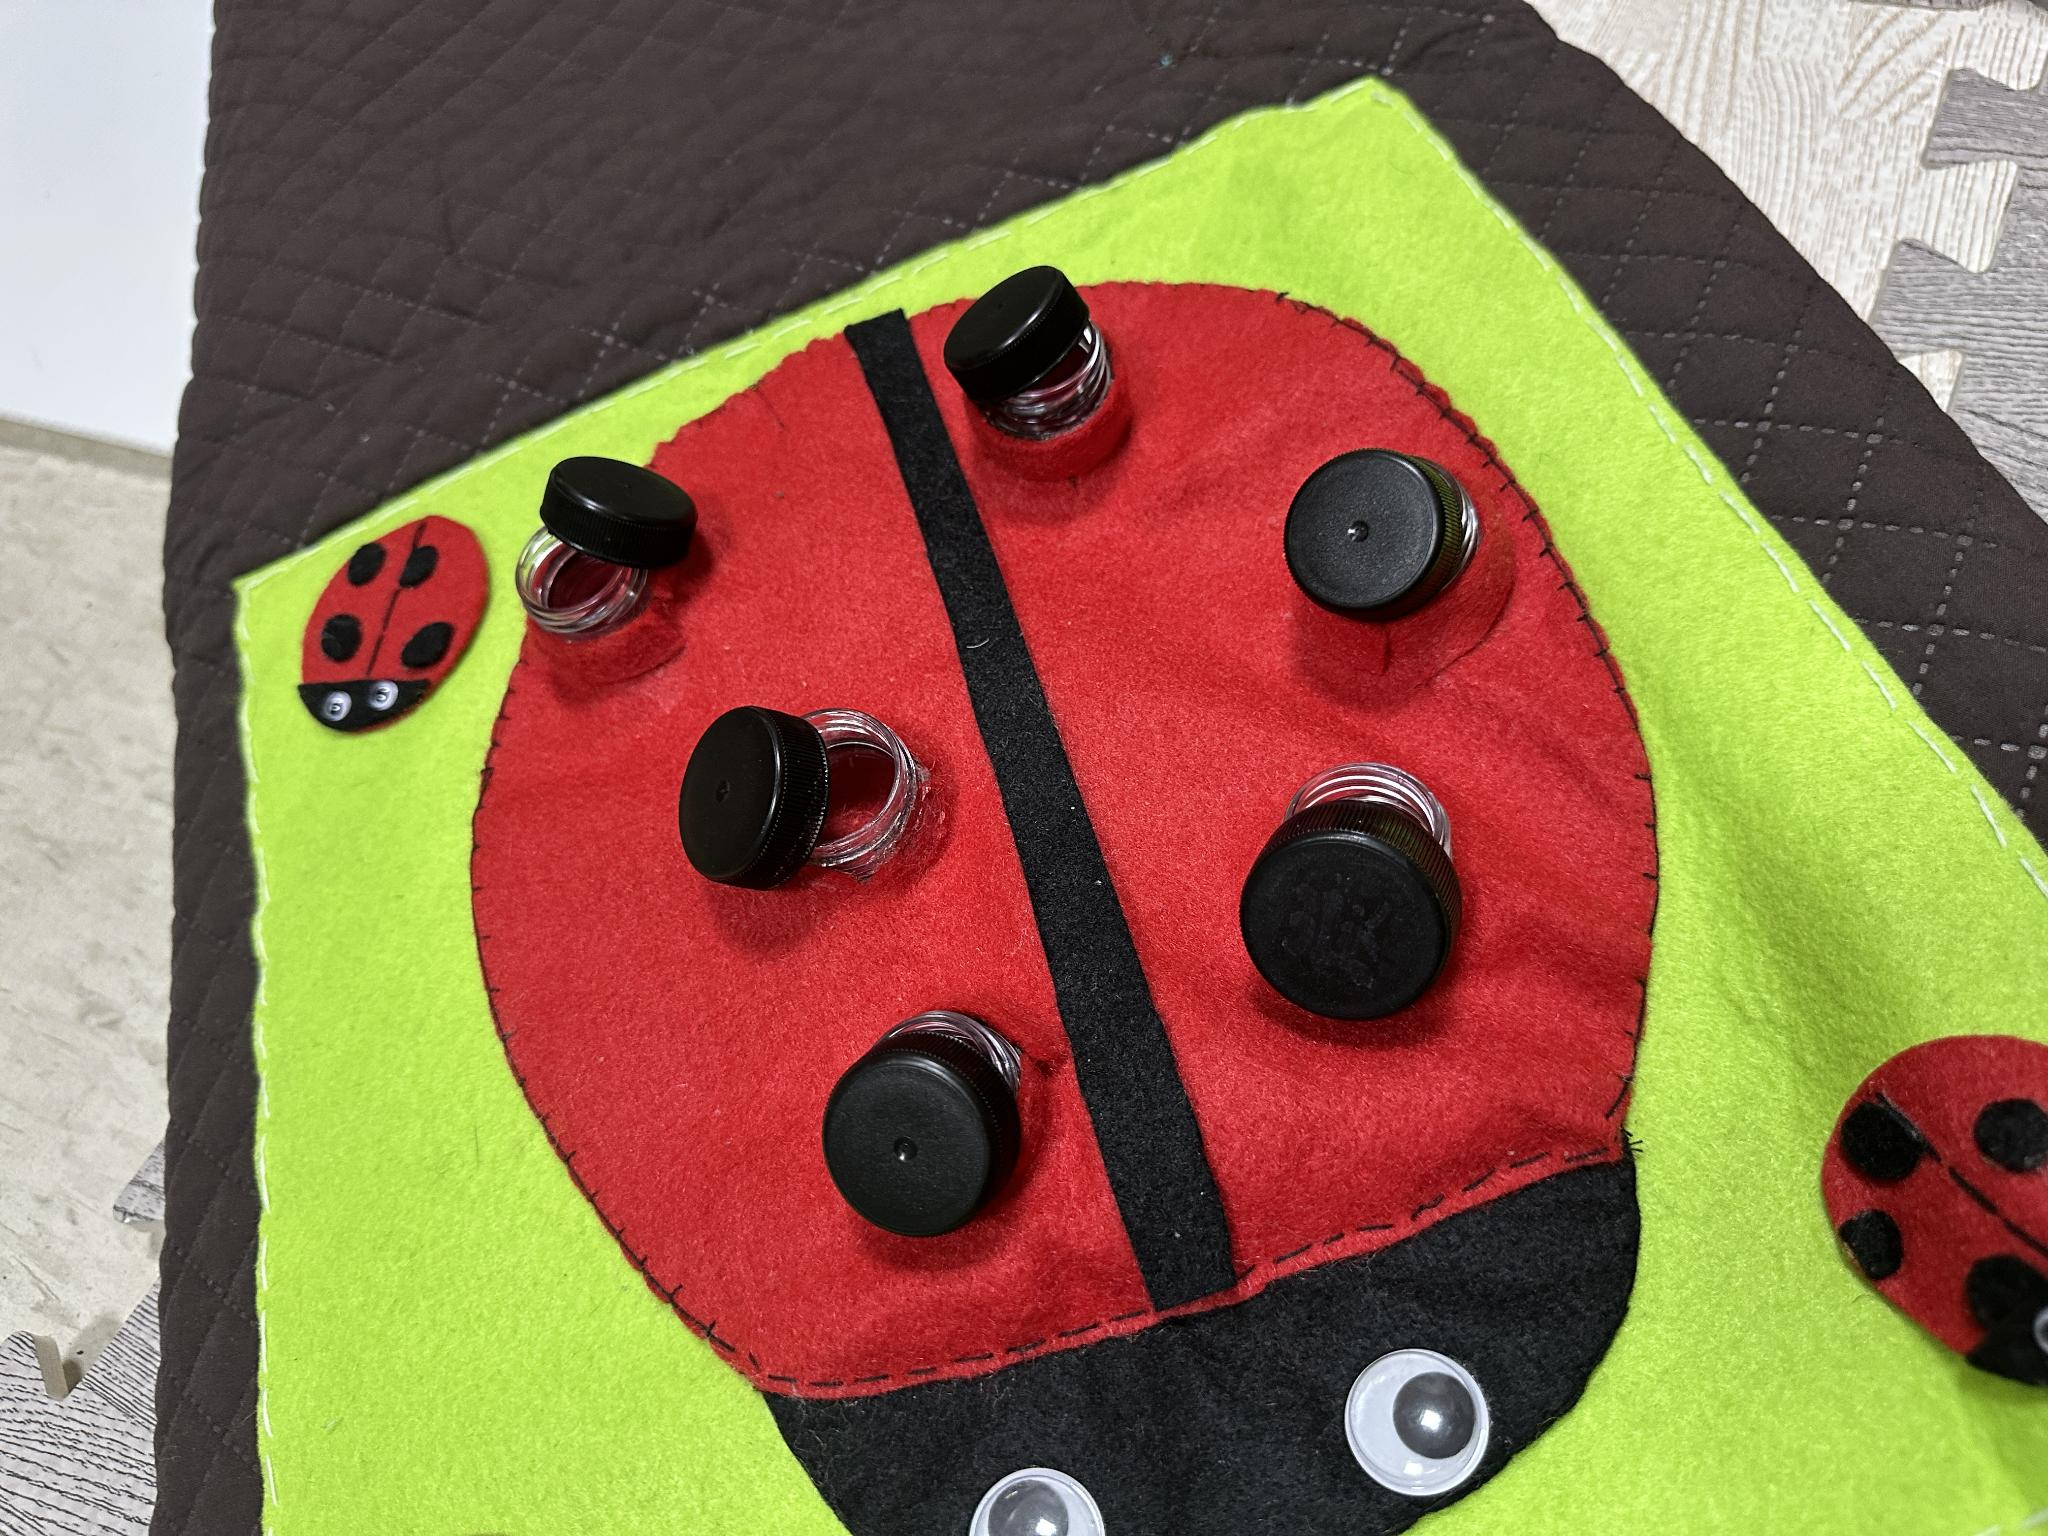cap_ng: (1213, 729, 1496, 1036), (756, 975, 1058, 1249), (1248, 415, 1529, 679), (669, 666, 958, 910), (906, 250, 1172, 513), (489, 445, 740, 694)
